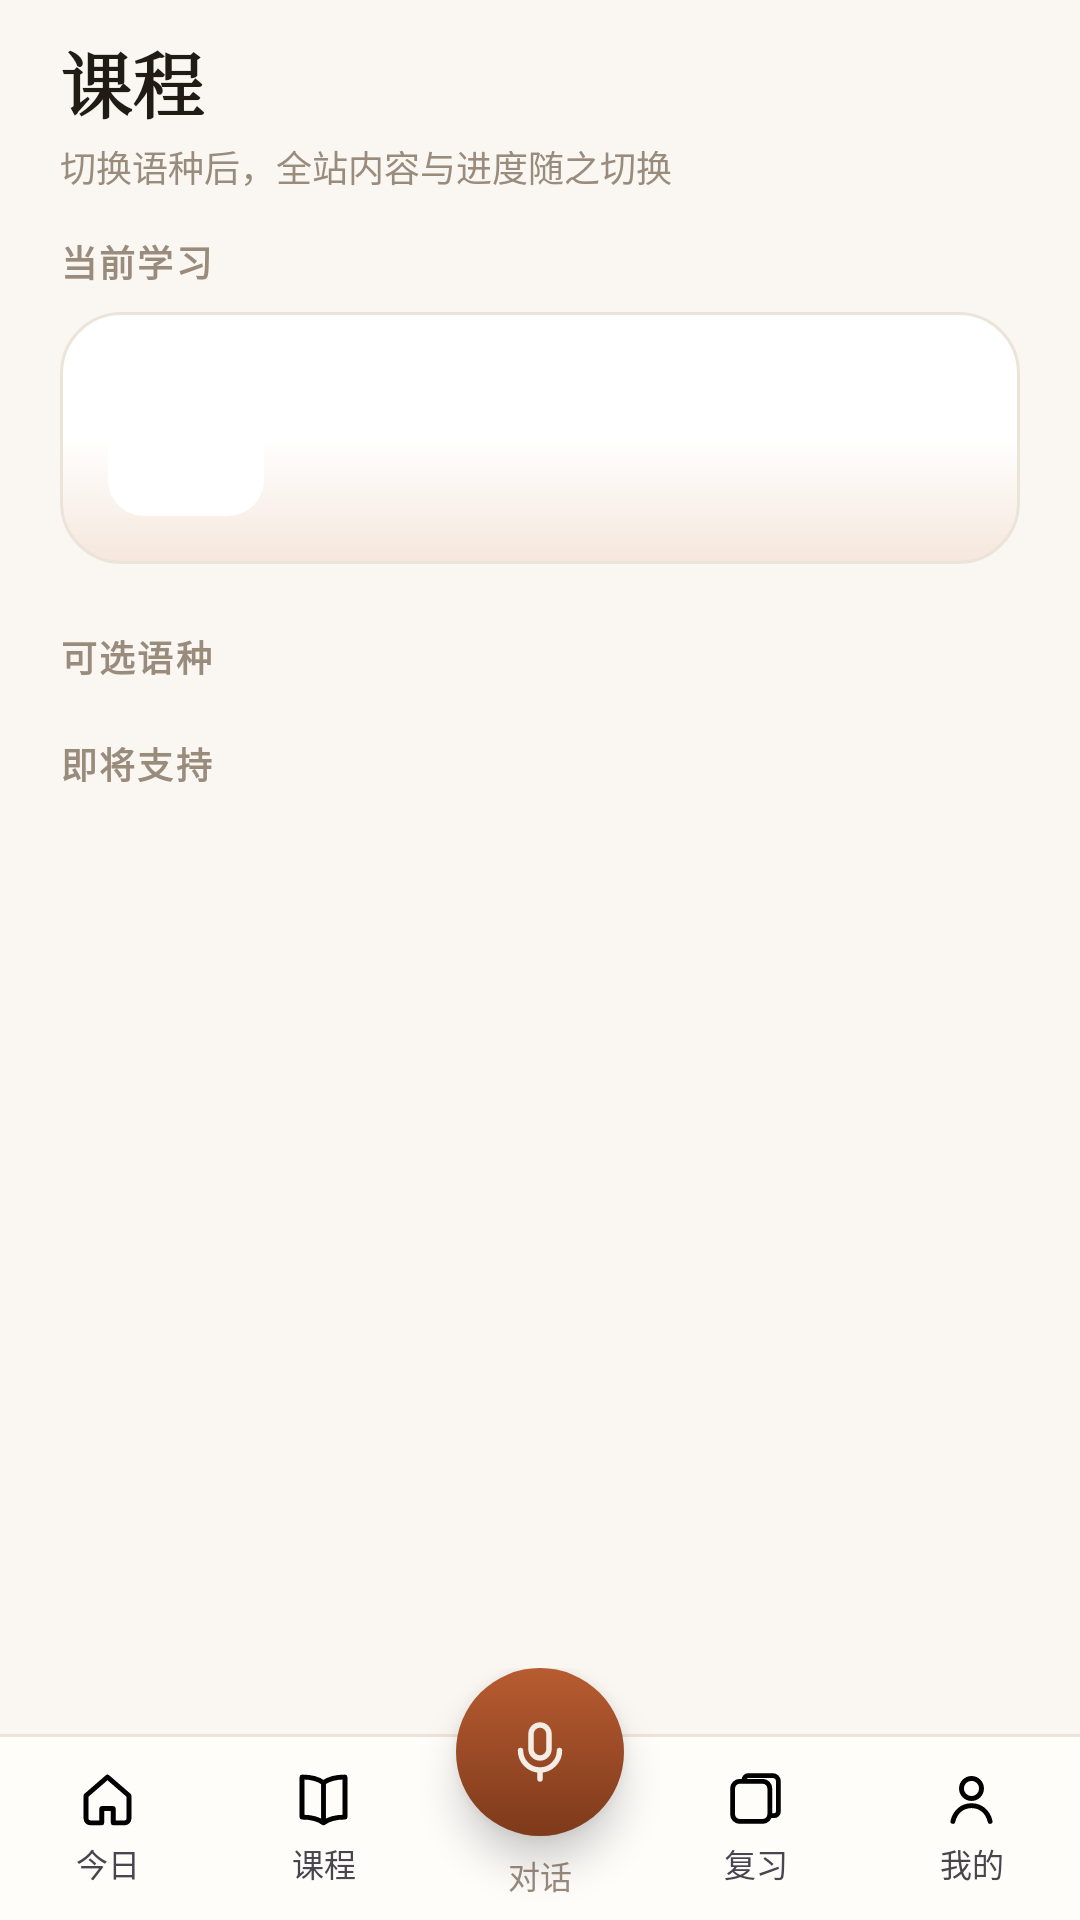

Icon click points for this 1080*1920 phone screenshot, format (x,y):
mic: (540,1755)
